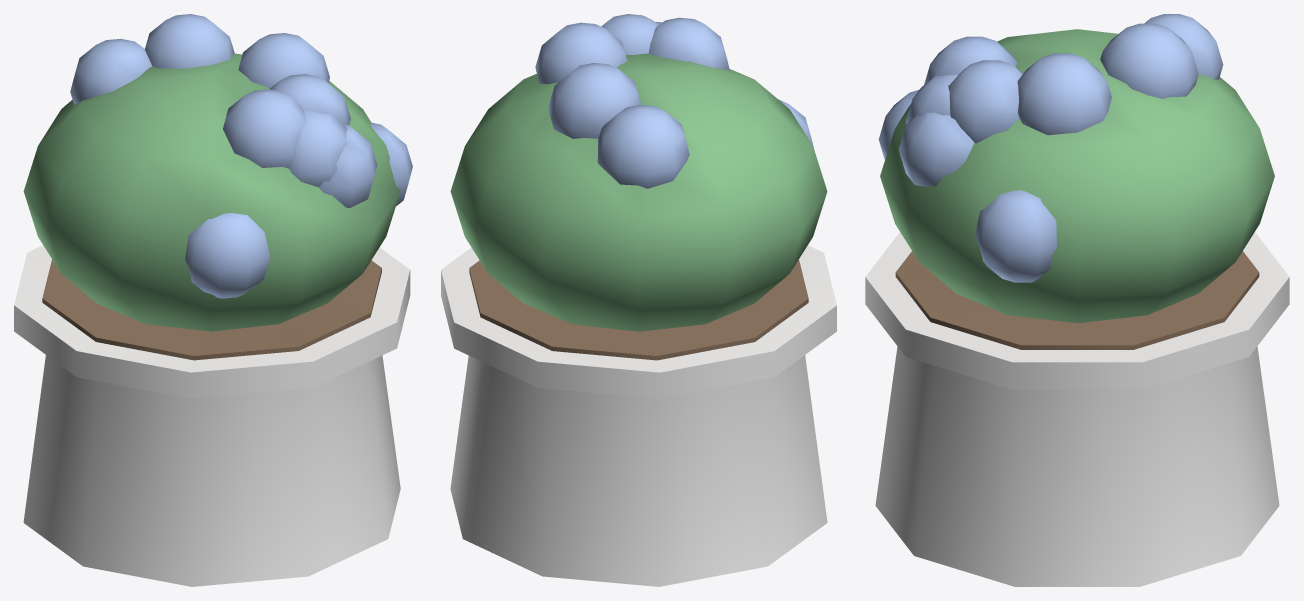
The model's file is Kerb_PlanterBasalt.fbx.
3 renders of one model, left to right at view 1: azimuth 30°, elevation 25°; view 2: azimuth 150°, elevation 25°; view 3: azimuth 270°, elevation 25°, orthographic. The views are drawn at different scales.
Parts seen in each view (by area): view 1: Kerb_PlanterBasalt; view 2: Kerb_PlanterBasalt; view 3: Kerb_PlanterBasalt.
Boxes of the visible parts, x1,y1,x2,y2 form: Kerb_PlanterBasalt: [14, 14, 412, 586]; Kerb_PlanterBasalt: [441, 14, 836, 586]; Kerb_PlanterBasalt: [865, 14, 1289, 586].
Size of the model in its own units: 0.8 by 1.05 by 0.84.
